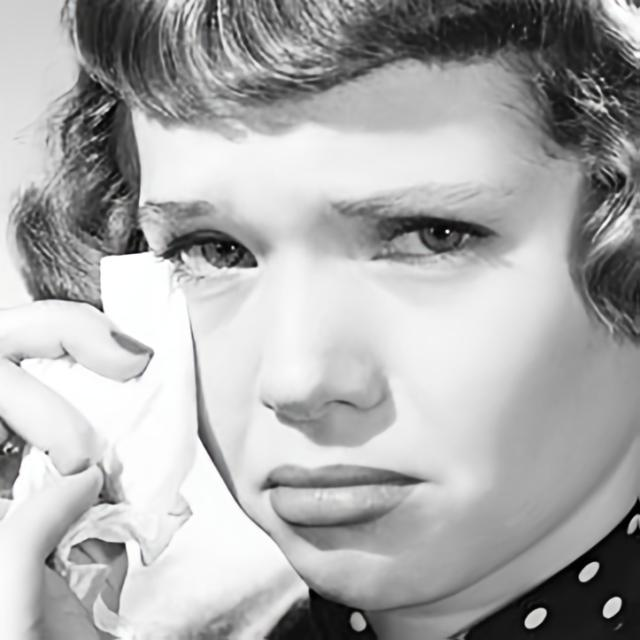sad: (146, 49, 589, 606)
